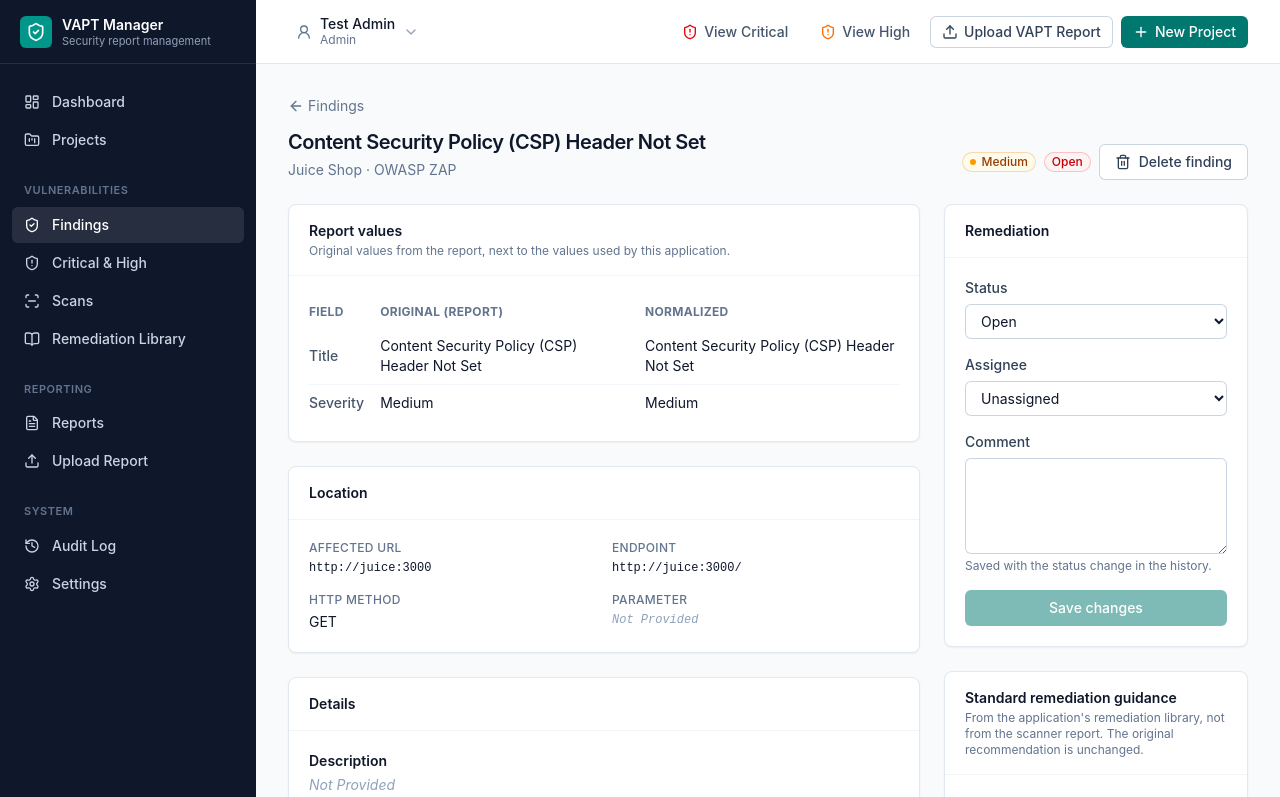
Admin deletion › deletes a finding after confirmation (Admin only)
Click the button "Delete finding" at (1173, 162), box [1099,144,1248,180]
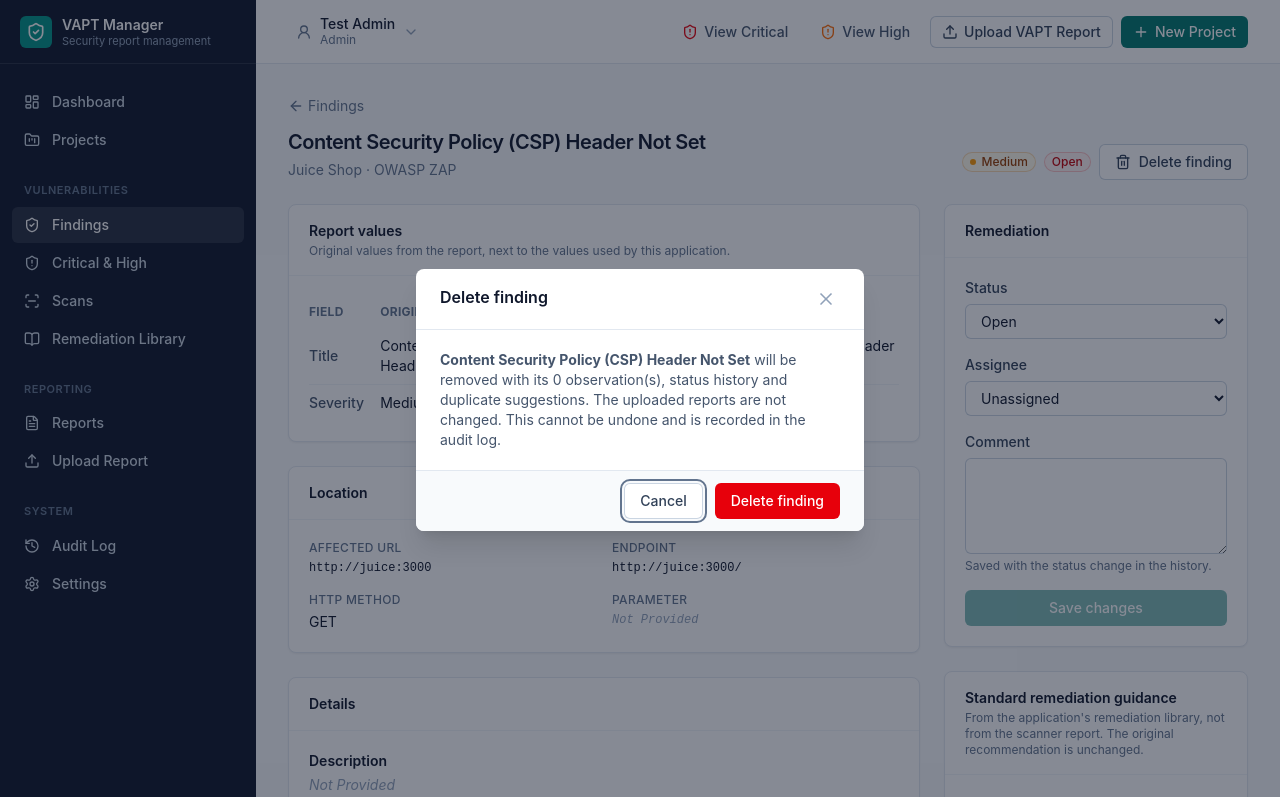
Check: the dialog "Delete finding" shows "This cannot be undone", box [440,371,806,448]
Click the button "Delete finding" below "will be removed with its" at (777, 501), box [715,483,840,519]
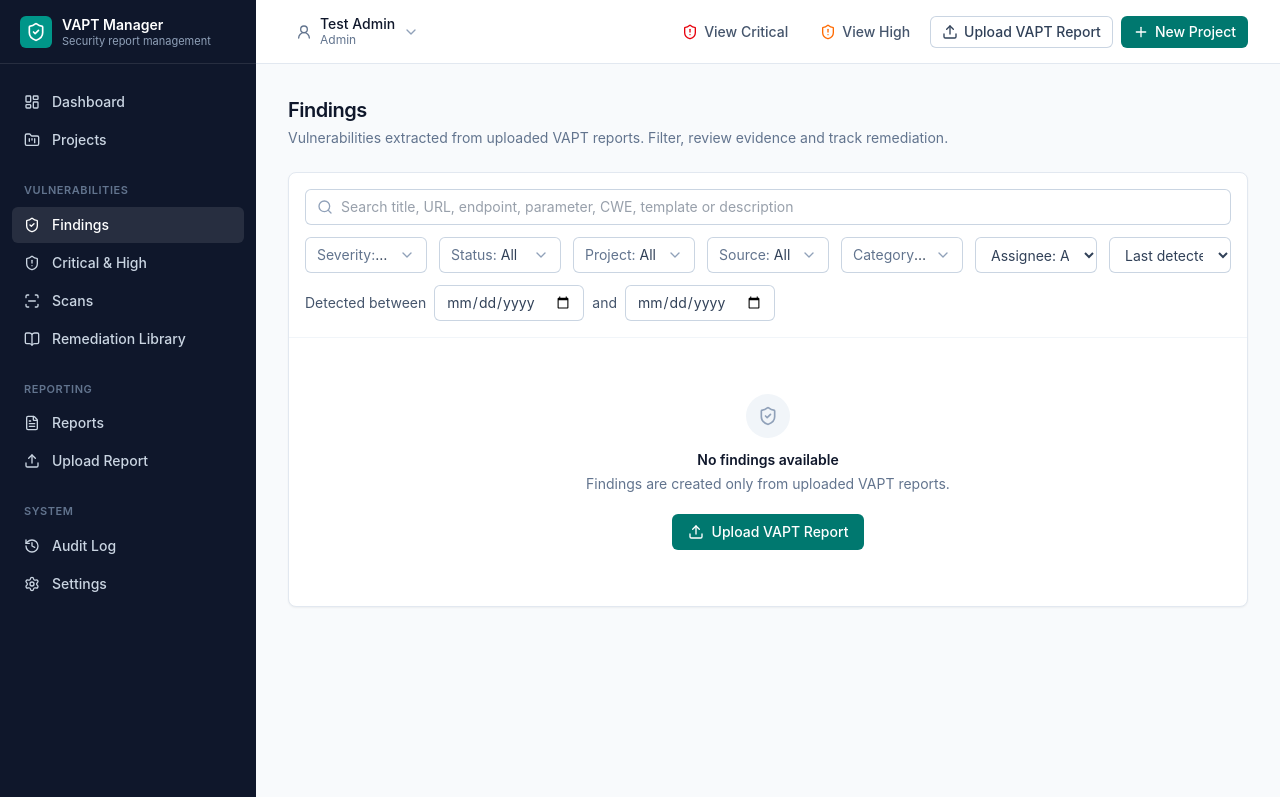
Check: the heading "Findings" is shown, box [288,98,367,122]
